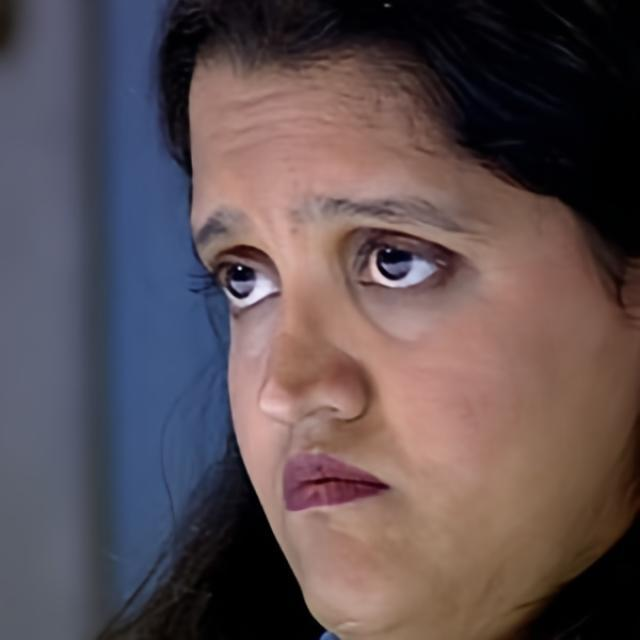sad: (182, 38, 640, 640)
